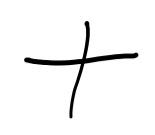plus: (24, 21, 138, 119)
